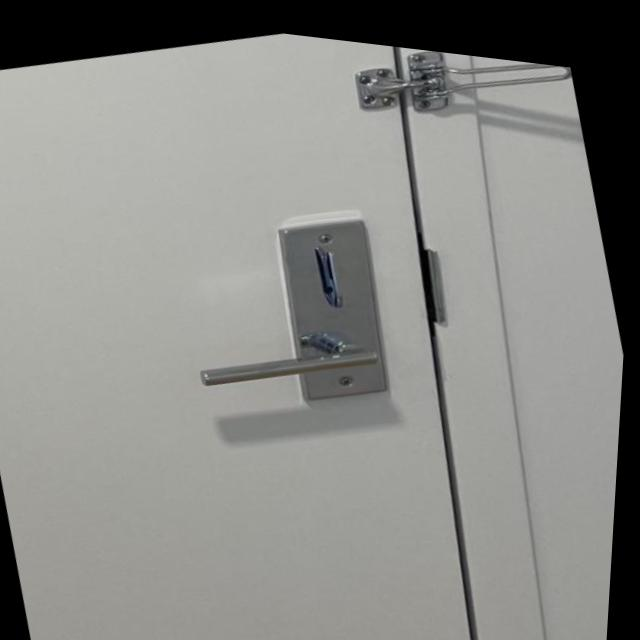door_handle: (181, 279, 424, 429)
